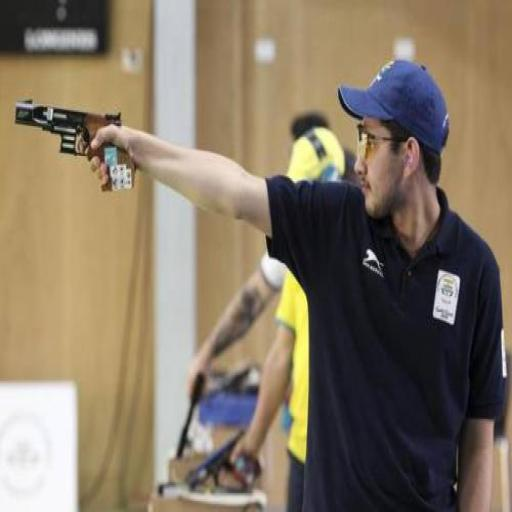shooting: (81, 57, 509, 510)
